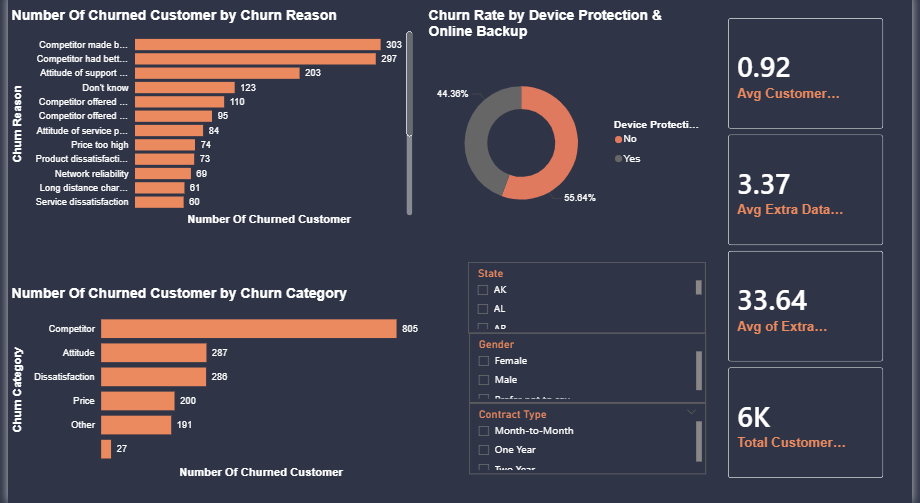

This screenshot's page, from the dashboard's own definition file:
{"tool":"powerbi","page":{"name":"Churn Reason &Deep Dive","canvas":[1280,720],"ordinal":3},"visuals":[{"type":"barChart","fields":{"Category":["Databel - Data.Churn Reason"],"Y":["dashboard measures.Number Of Churned Customer"]},"box":[0,17.2,578.1,314.1],"z":0},{"type":"barChart","fields":{"Category":["Databel - Data.Churn Category"],"Y":["dashboard measures.Number Of Churned Customer"]},"box":[0,410.4,590.4,279.4],"z":1000},{"type":"cardVisual","fields":{"Data":["dashboard measures.Avg Customer Service Calls","dashboard measures.Avg Extra Data charges","dashboard measures.Avg of Extra International Charges","dashboard measures.Total Customer Service Calls"]},"box":[1003.7,15.8,254.9,688.3],"z":2000},{"type":"donutChart","fields":{"Y":["dashboard measures.Churn Rate"],"Category":["Databel - Data.Device Protection & Online Backup"]},"box":[590.4,17.3,401.8,341.3],"z":3000},{"type":"slicer","fields":{"Values":["Databel - Data.State"]},"box":[652,378.4,337.3,100.6],"z":4000},{"type":"slicer","fields":{"Values":["Databel - Data.Gender"]},"box":[653.4,479.1,335.9,99.2],"z":5000},{"type":"slicer","fields":{"Values":["Databel - Data.Contract Type"]},"box":[653.4,578.3,335.9,100.6],"z":6000}]}

Visuals, with their boxes in screenshot pixels (x1, y1, x2, y2), scaled from the page's 1280x720 canvas onto the 920x503 screenshot:
barChart - Databel - Data.Churn Reason x dashboard measures.Number Of Churned Customer: (left=0, top=12, right=416, bottom=231)
barChart - Databel - Data.Churn Category x dashboard measures.Number Of Churned Customer: (left=0, top=287, right=424, bottom=482)
cardVisual - dashboard measures.Avg Customer Service Calls x dashboard measures.Avg Extra Data charges: (left=721, top=11, right=905, bottom=492)
donutChart - dashboard measures.Churn Rate x Databel - Data.Device Protection & Online Backup: (left=424, top=12, right=713, bottom=251)
slicer - Databel - Data.State: (left=469, top=264, right=711, bottom=335)
slicer - Databel - Data.Gender: (left=470, top=335, right=711, bottom=404)
slicer - Databel - Data.Contract Type: (left=470, top=404, right=711, bottom=474)
